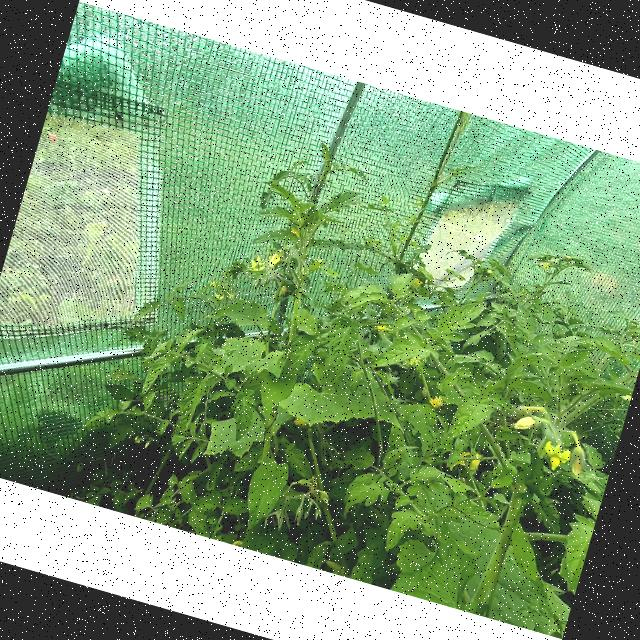Flowers: (444, 442, 484, 476), (538, 438, 574, 473), (248, 253, 268, 276), (429, 392, 447, 410), (269, 250, 283, 270), (540, 258, 554, 272), (212, 290, 224, 300), (208, 278, 218, 288), (227, 292, 234, 299)
